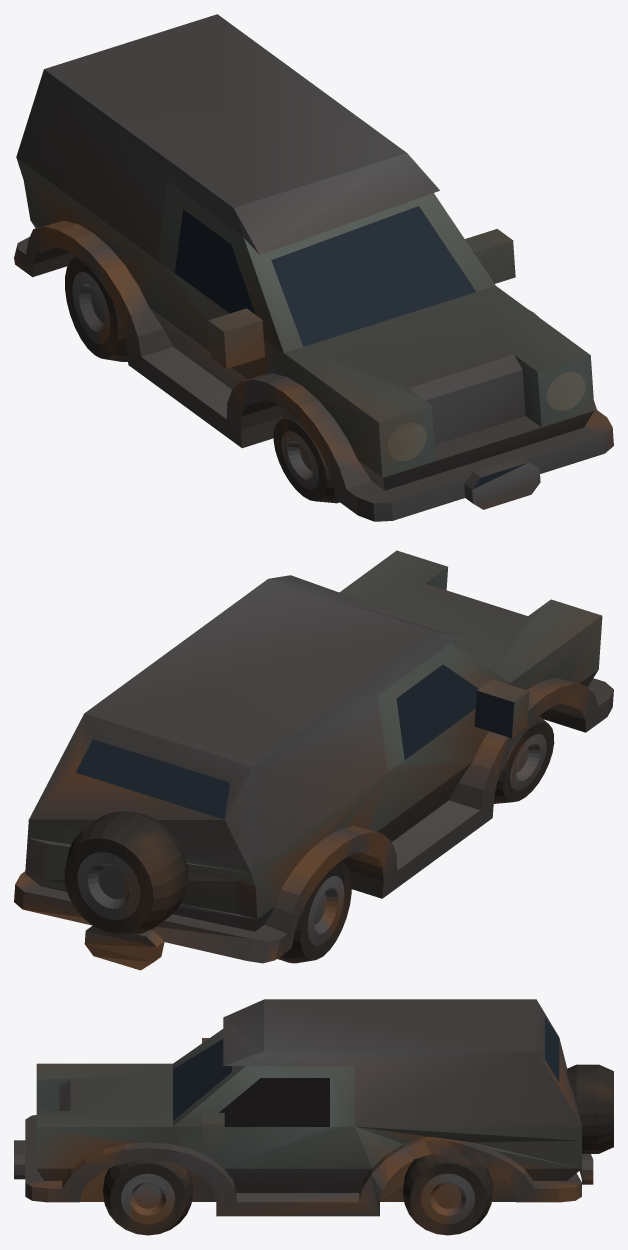
Rendered from suv_wreck.glb.
The picture shows the model from 3 angles, top to bottom: view 1: azimuth 30°, elevation 25°; view 2: azimuth 150°, elevation 25°; view 3: azimuth 270°, elevation 25°; orthographic projection. The views are drawn at different scales.
Parts seen in each view (by area): view 1: suv_wreck; view 2: suv_wreck; view 3: suv_wreck.
Part boxes in pixels (x1=…): suv_wreck: x1=14, y1=14, x2=613, y2=521; suv_wreck: x1=14, y1=550, x2=613, y2=970; suv_wreck: x1=14, y1=999, x2=613, y2=1235.
Bounding box in the file's own units: 1.81 × 1.53 × 4.49.
